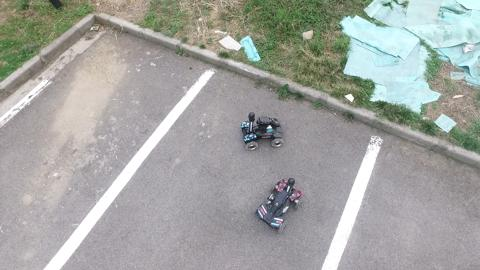chariot: (248, 176, 314, 236), (234, 107, 291, 157)
